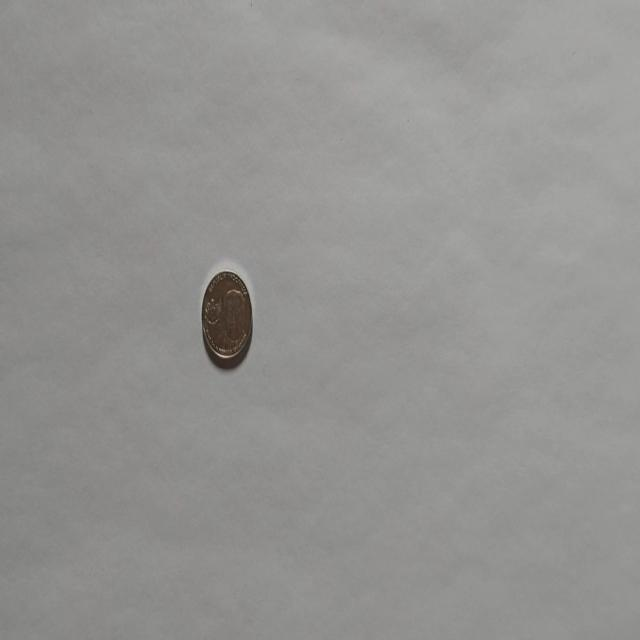seratus rupiah: (200, 268, 252, 364)
